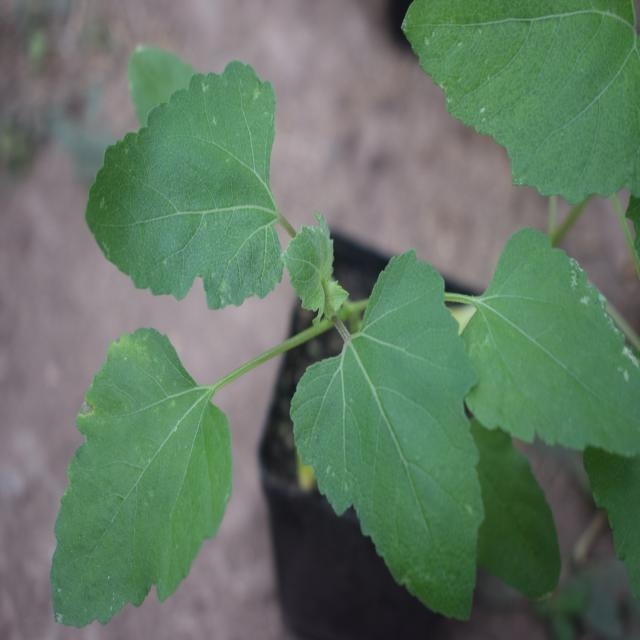cocklebur: (41, 76, 628, 613)
